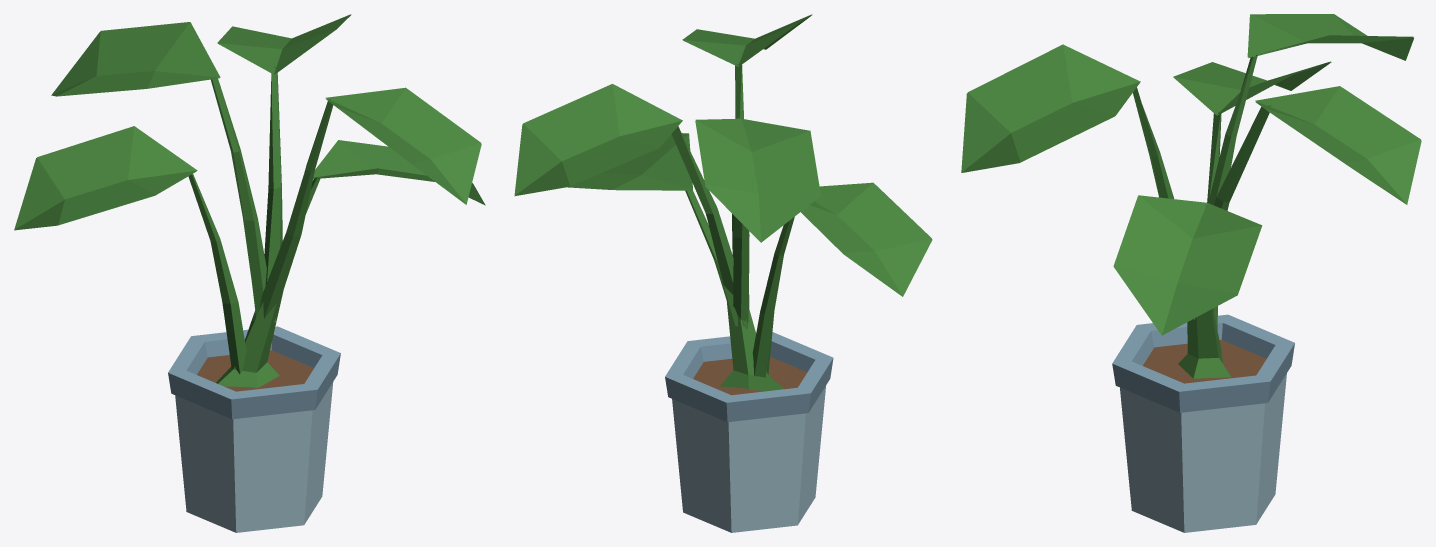
The model's file is Flower_24.fbx.
The picture shows the model from 3 angles, left to right: view 1: azimuth 30°, elevation 25°; view 2: azimuth 150°, elevation 25°; view 3: azimuth 270°, elevation 25°; orthographic projection. The views are drawn at different scales.
Parts seen in each view (by area): view 1: Flower_24; view 2: Flower_24; view 3: Flower_24.
Part boxes in pixels (x1=…): Flower_24: x1=14, y1=14, x2=485, y2=532; Flower_24: x1=514, y1=14, x2=932, y2=532; Flower_24: x1=961, y1=14, x2=1421, y2=532.
Bounding box in the file's own units: 126 × 116 × 130.
